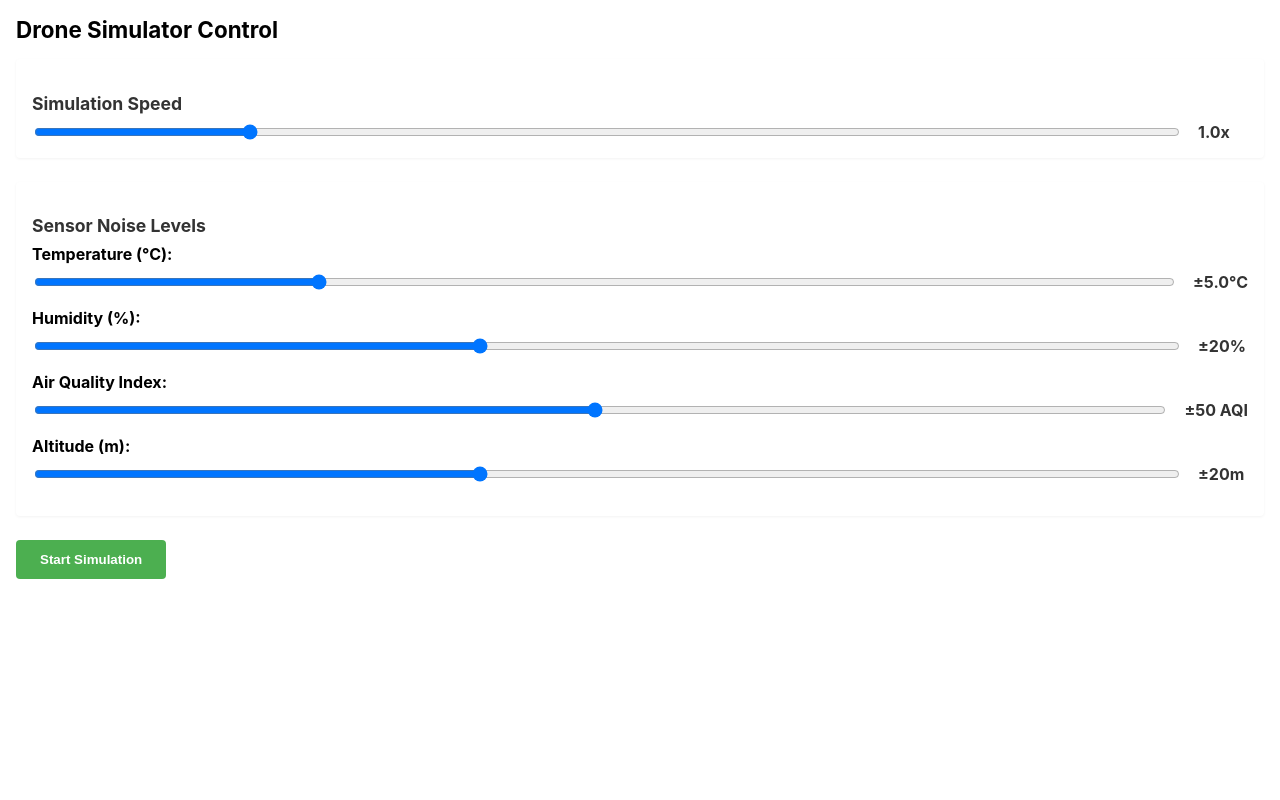
Test: SimulatorControl Component › handles errors when starting simulation
Click the start button
Click the button "Start Simulation" at point(91, 560), box x1=16 y1=540 x2=166 y2=579
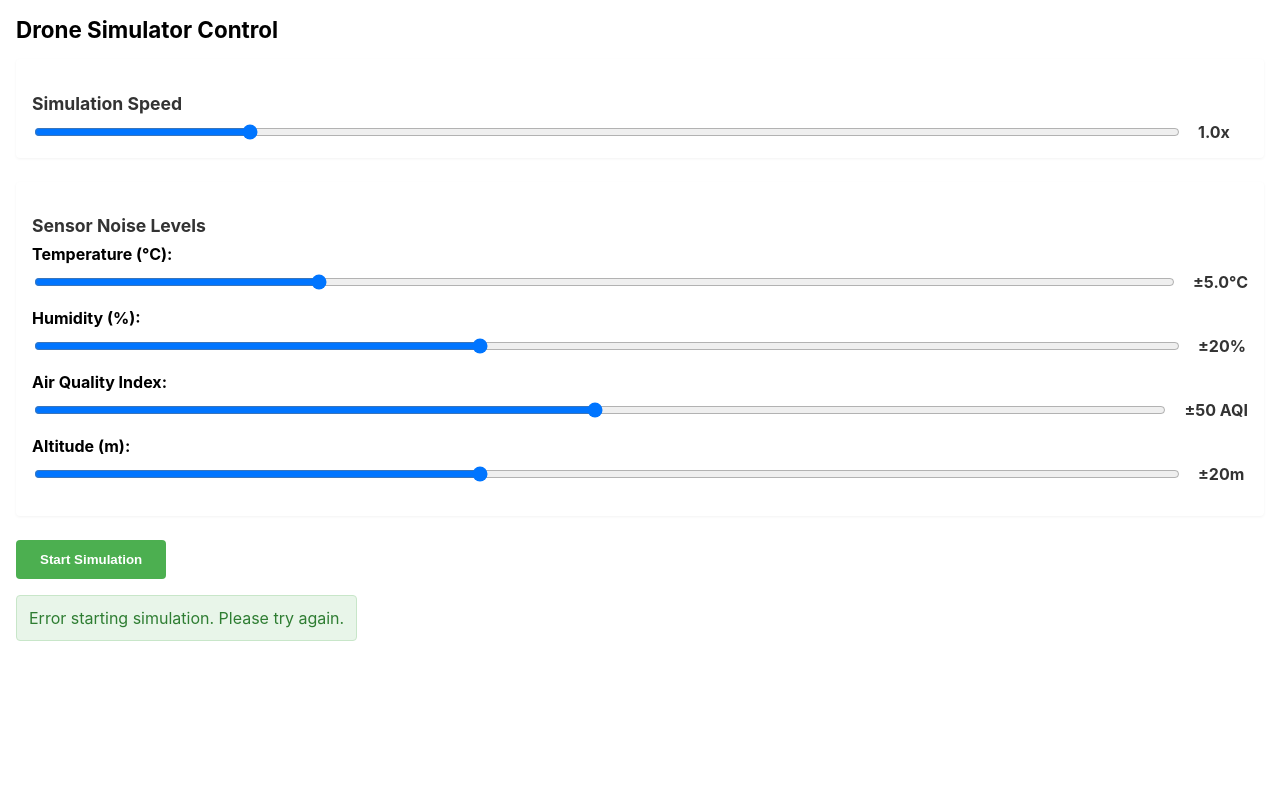
Check: the text "Error starting simulation. Please try again." is shown, box x1=16 y1=595 x2=357 y2=641
